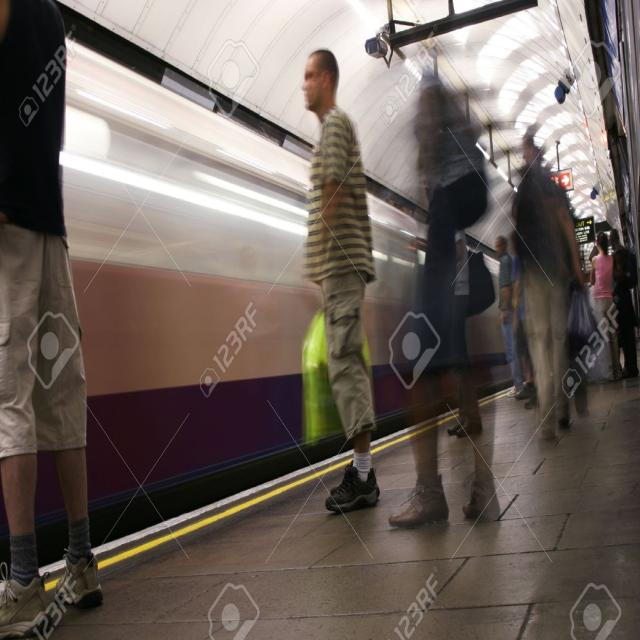body: (0, 0, 105, 640), (387, 76, 502, 531), (297, 44, 381, 515), (508, 131, 604, 450), (444, 344, 606, 440), (506, 227, 540, 402), (589, 230, 624, 383), (493, 233, 525, 399), (609, 228, 640, 380)
